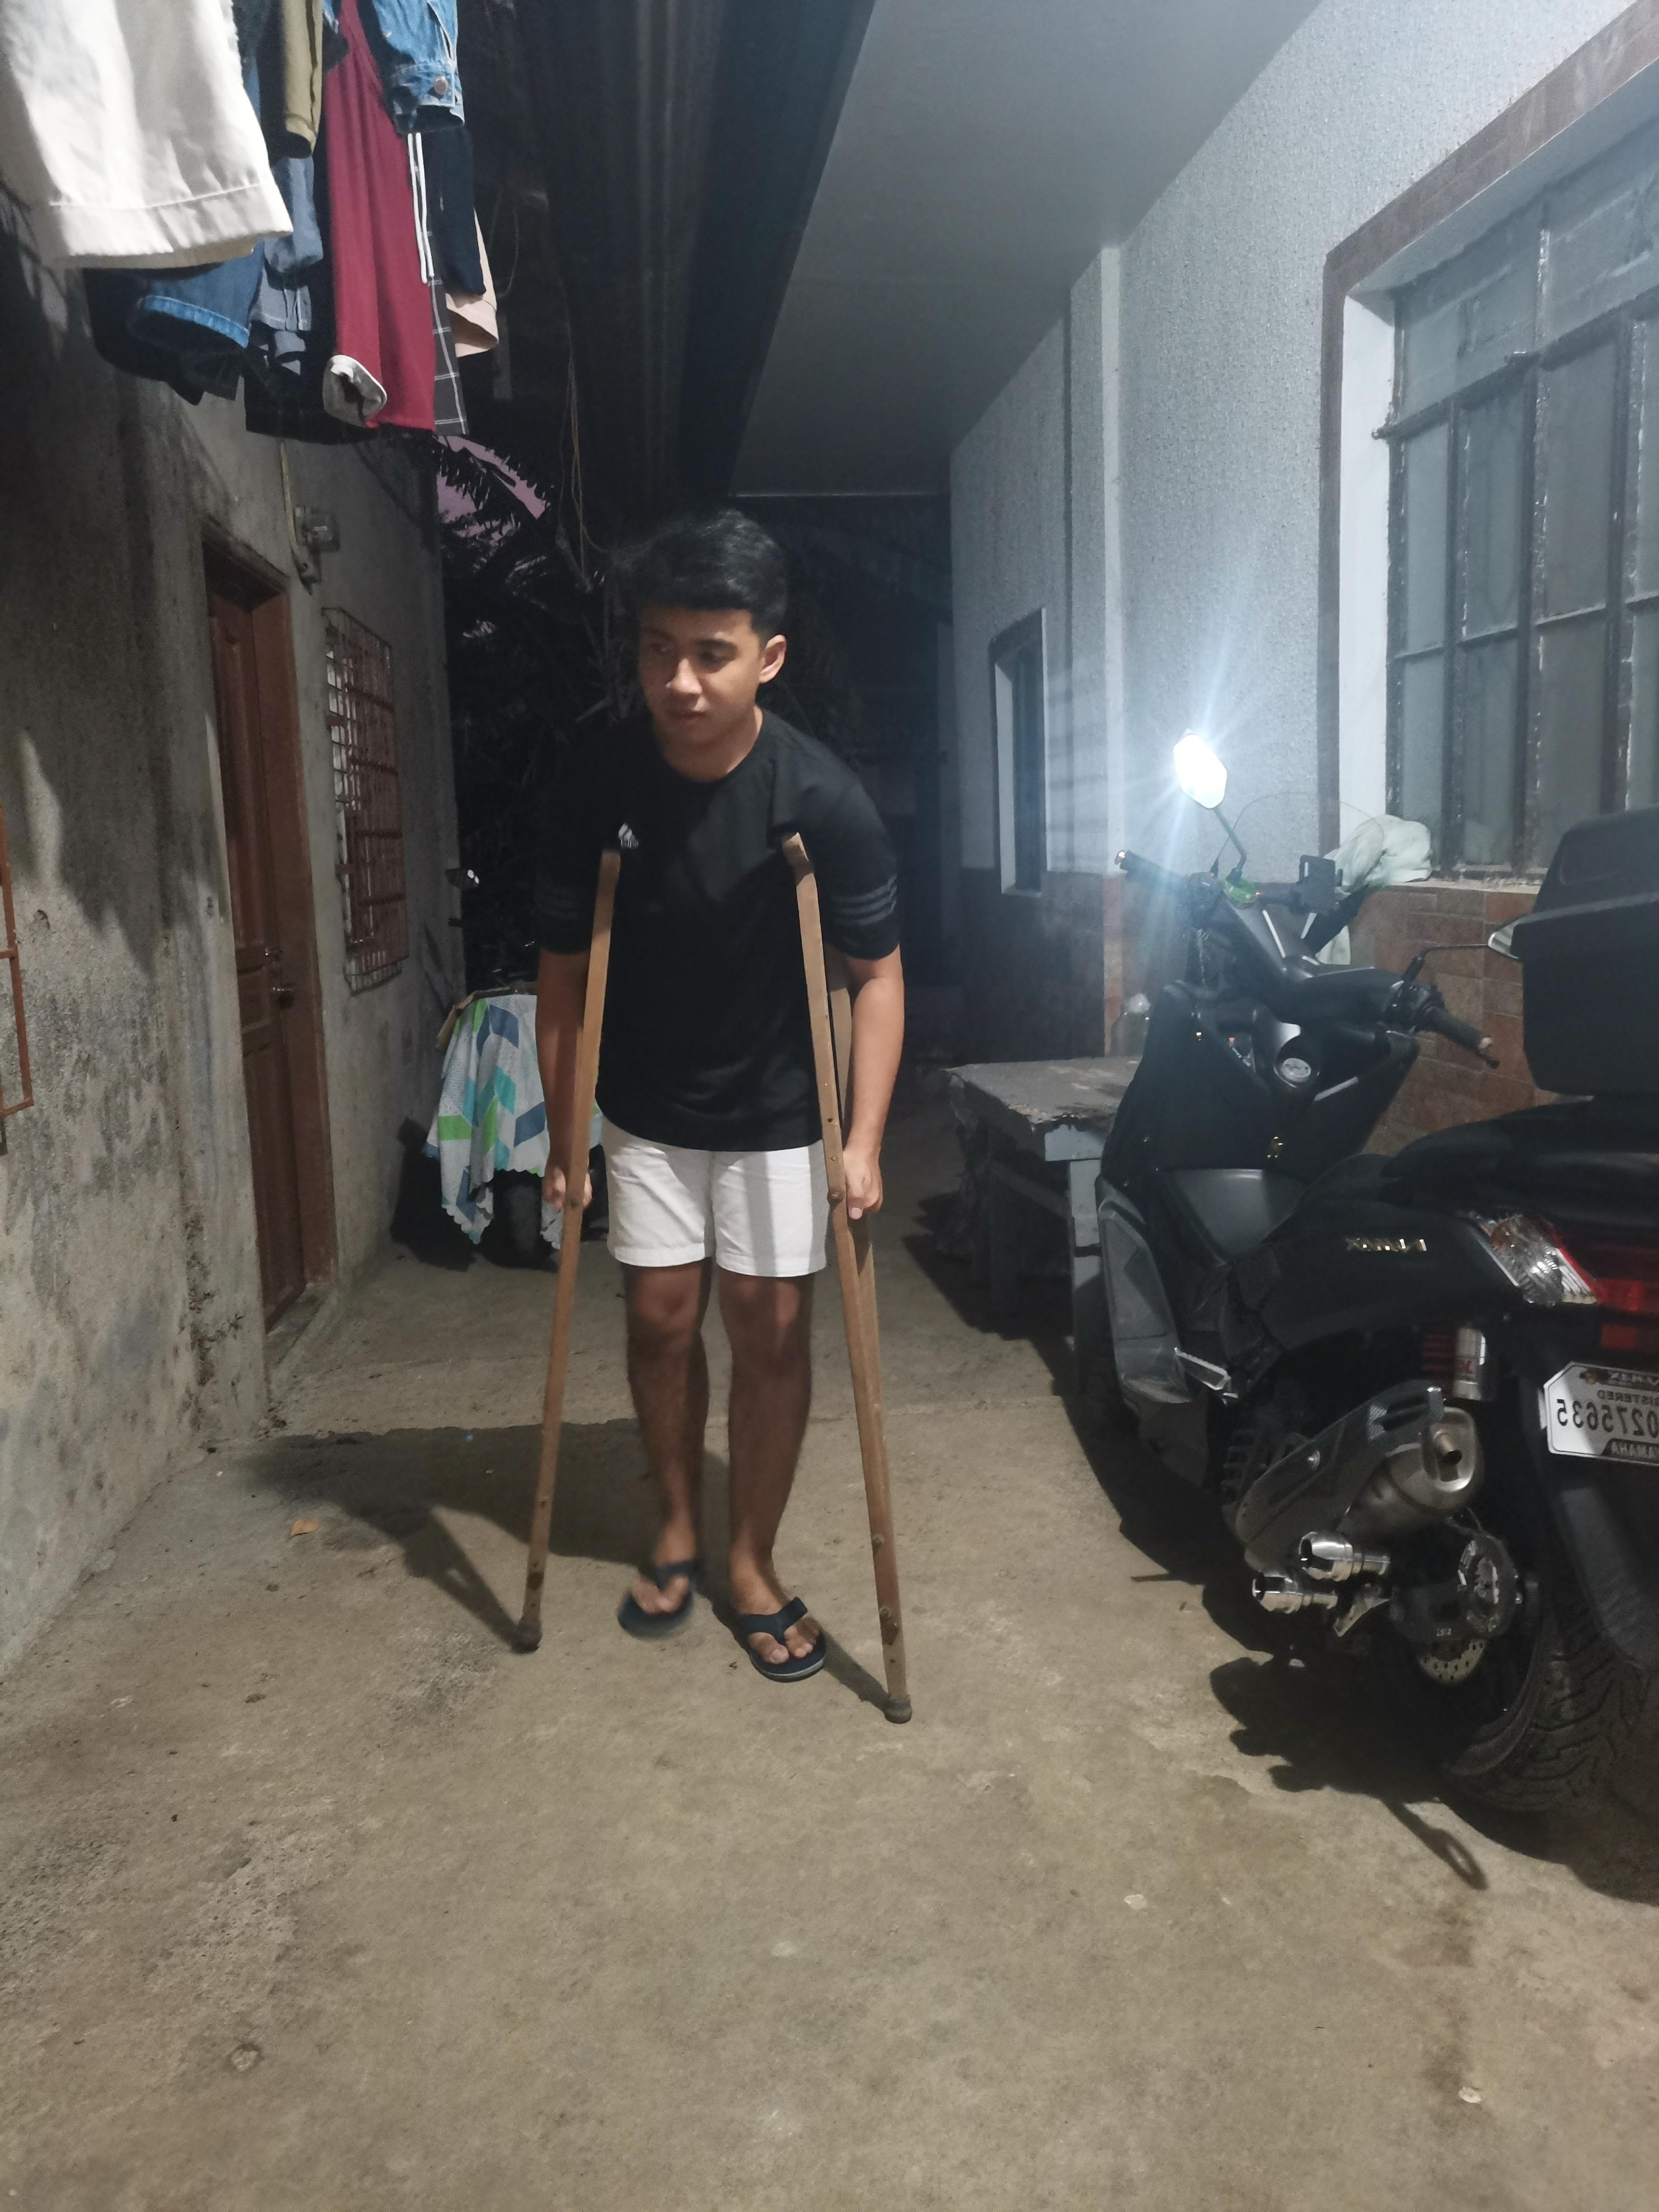crutches: (519, 509, 918, 1721)
